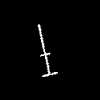double_crochet: (38, 25, 57, 76)
